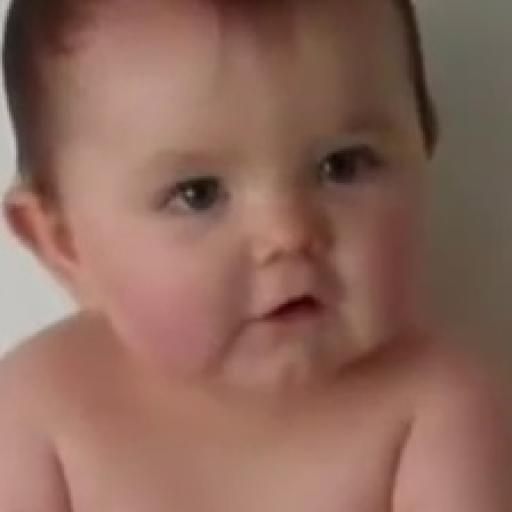Autism: (10, 12, 455, 464)
